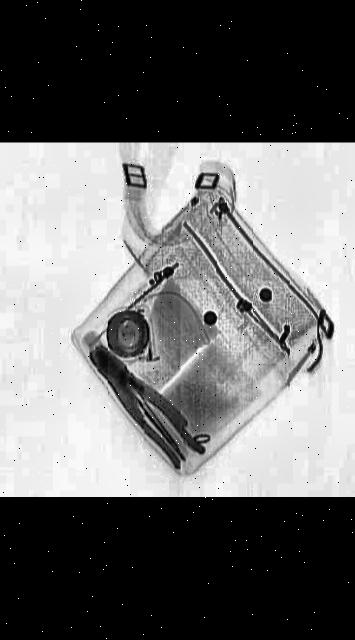Pliers: (67, 338, 217, 468)
